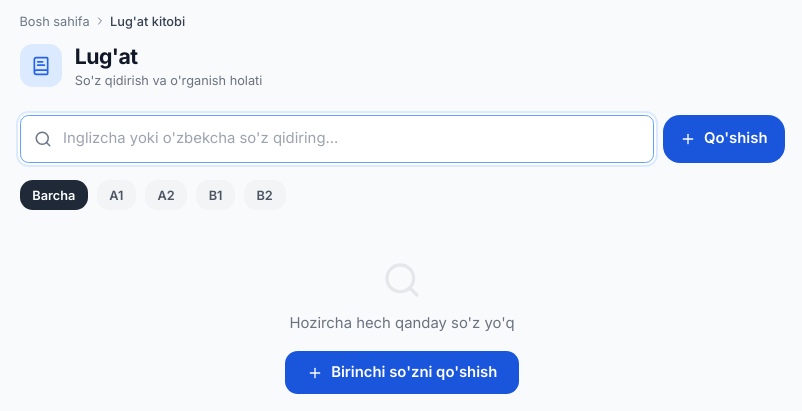
Dictionary — page integration tests › searches when user types a query
The width and height of the screenshot is (802, 411).
Type "world" into the search field with placeholder "Inglizcha yoki o'zbekcha so'z qidiring...".
click(337, 139); type("world")  # box [20,114,654,163]
Wait 400 ms
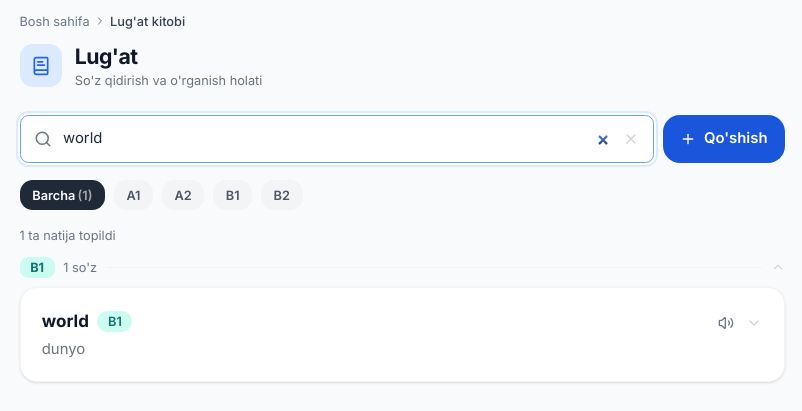
Check: the text "world" is shown, box [42,309,89,334]
Check: the text "dunyo" is shown, box [42,340,85,358]
